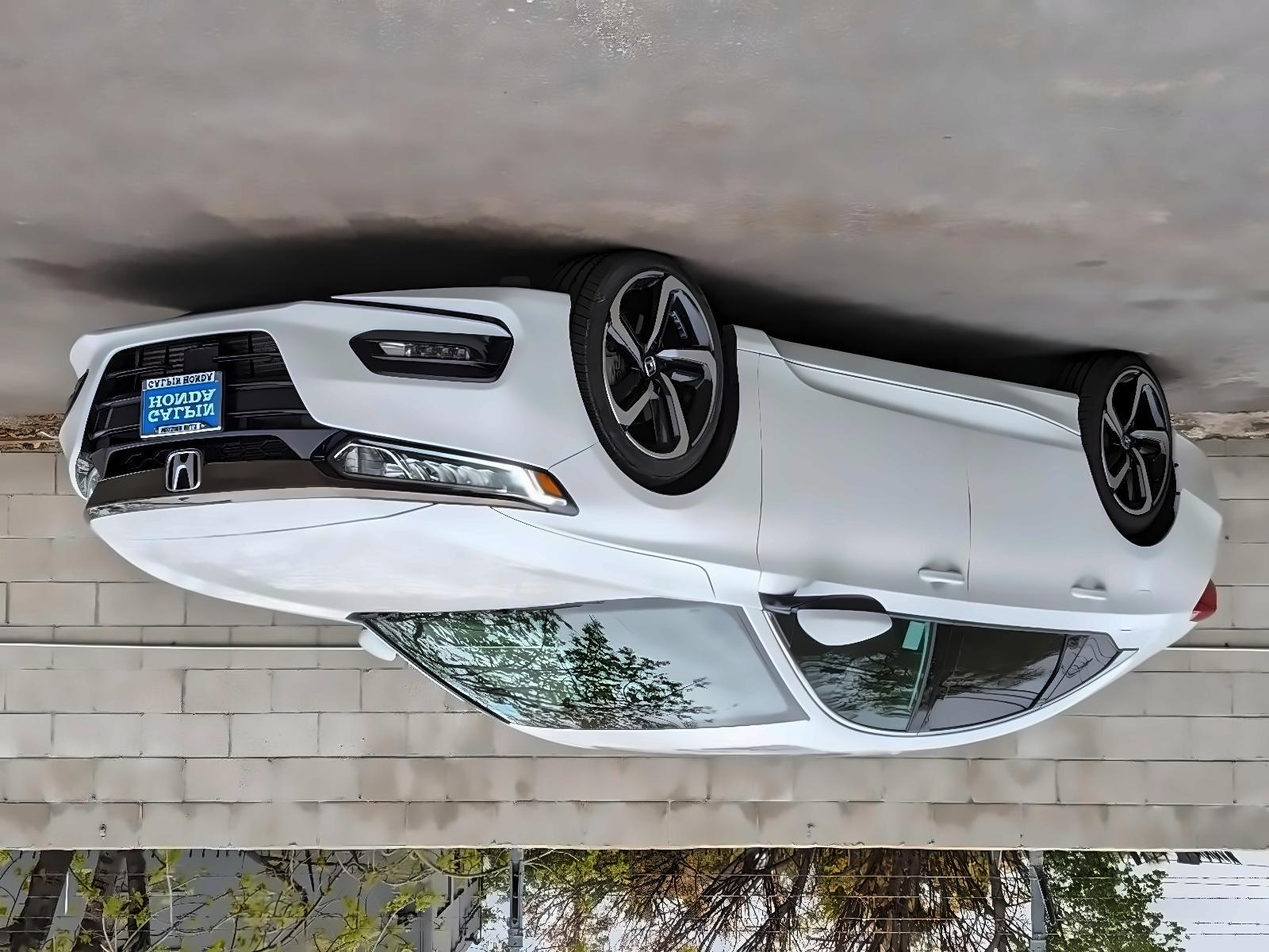Car hood: (78, 497, 733, 618)
Driver-s door - -F-R-: (719, 298, 978, 753)
Fender - -F-R-: (492, 344, 770, 626)
Fender - -R-R-: (1053, 393, 1198, 653)
Front bumper: (62, 284, 600, 505)
Headlight - -R-: (314, 429, 579, 519)
Passenger-s door - -R-R-: (891, 326, 1136, 760)
Rear bumper: (1163, 421, 1235, 559)
Rear light - -R-: (1186, 578, 1223, 625)
Side bumper - -R-: (720, 306, 1087, 477)
Side mirror - -R-: (757, 587, 894, 646)
